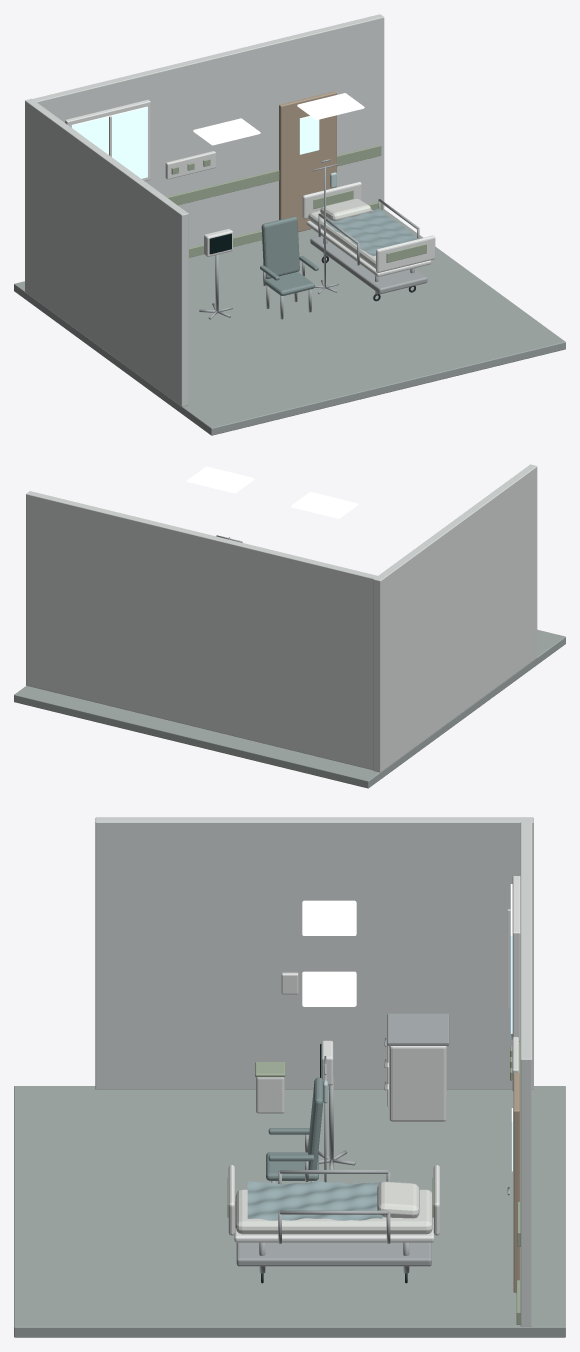
Rendered from internal.glb.
The picture shows the model from 3 angles, top to bottom: view 1: azimuth 30°, elevation 25°; view 2: azimuth 150°, elevation 25°; view 3: azimuth 270°, elevation 25°; orthographic projection. The views are drawn at different scales.
Parts seen in each view (by area): view 1: RoomFloor, BackWall, LeftWall, Door, WindowGlass, FoldedCover, ChairBack, WallProtectionBand, BedUnderframe, BedEndBoard, CeilingLuminaire, CeilingLuminaire.001 (+9 smaller); view 2: BackWall, LeftWall, RoomFloor, CeilingLuminaire.001, CeilingLuminaire; view 3: RoomFloor, LeftWall, BackWall, BedUnderframe, FoldedCover, Cabinet, Mattress, CabinetTop, CeilingLuminaire.001, CeilingLuminaire, MattressBase, WindowFrame (+5 smaller).
Part boxes in pixels (left/top/right/bottom): RoomFloor: left=14, top=209, right=565, bottom=435; BackWall: left=27, top=14, right=384, bottom=247; LeftWall: left=25, top=98, right=188, bottom=406; Door: left=279, top=91, right=336, bottom=231; WindowGlass: left=71, top=106, right=147, bottom=178; FoldedCover: left=326, top=208, right=417, bottom=256; ChairBack: left=261, top=216, right=299, bottom=278; WallProtectionBand: left=166, top=145, right=381, bottom=205; BedUnderframe: left=310, top=236, right=427, bottom=294; BedEndBoard: left=376, top=235, right=435, bottom=272; CeilingLuminaire: left=193, top=118, right=260, bottom=145; CeilingLuminaire.001: left=297, top=93, right=364, bottom=119; BackWall: left=26, top=491, right=383, bottom=770; LeftWall: left=373, top=464, right=537, bottom=772; RoomFloor: left=14, top=629, right=565, bottom=788; CeilingLuminaire.001: left=187, top=466, right=254, bottom=493; CeilingLuminaire: left=291, top=492, right=358, bottom=518; RoomFloor: left=14, top=1086, right=565, bottom=1337; LeftWall: left=95, top=817, right=533, bottom=1089; BackWall: left=520, top=818, right=532, bottom=1326; BedUnderframe: left=236, top=1242, right=431, bottom=1266; FoldedCover: left=247, top=1181, right=382, bottom=1220; Cabinet: left=389, top=1046, right=446, bottom=1121; Mattress: left=235, top=1189, right=432, bottom=1234; CabinetTop: left=387, top=1013, right=449, bottom=1045; CeilingLuminaire.001: left=302, top=971, right=356, bottom=1006; CeilingLuminaire: left=302, top=900, right=356, bottom=935; MattressBase: left=234, top=1201, right=434, bottom=1242; WindowFrame: left=512, top=876, right=520, bottom=1041.
Bounding box in the file's own units: 5.81 × 3.12 × 5.6.
